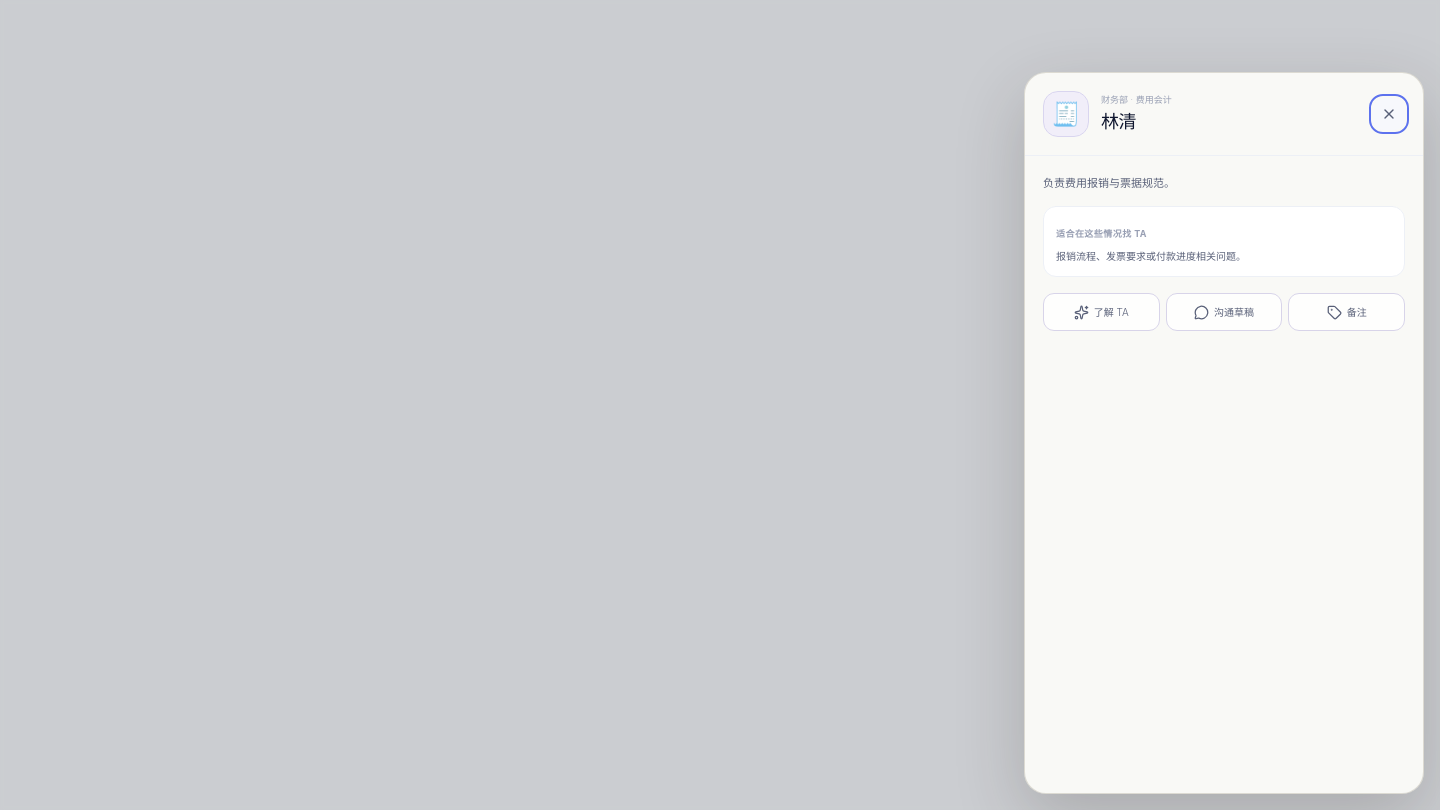
ContactDetailDrawer › opens contextual colleague details and loads intro only on demand
Expected: the dialog "林清" is shown, [1024,72,1424,794]
Expected: the text "报销流程、发票要求或付款进度相关问题。" is shown, [1056,250,1246,262]
Click the button "了解 TA": (1101, 312) [1043,293,1160,331]
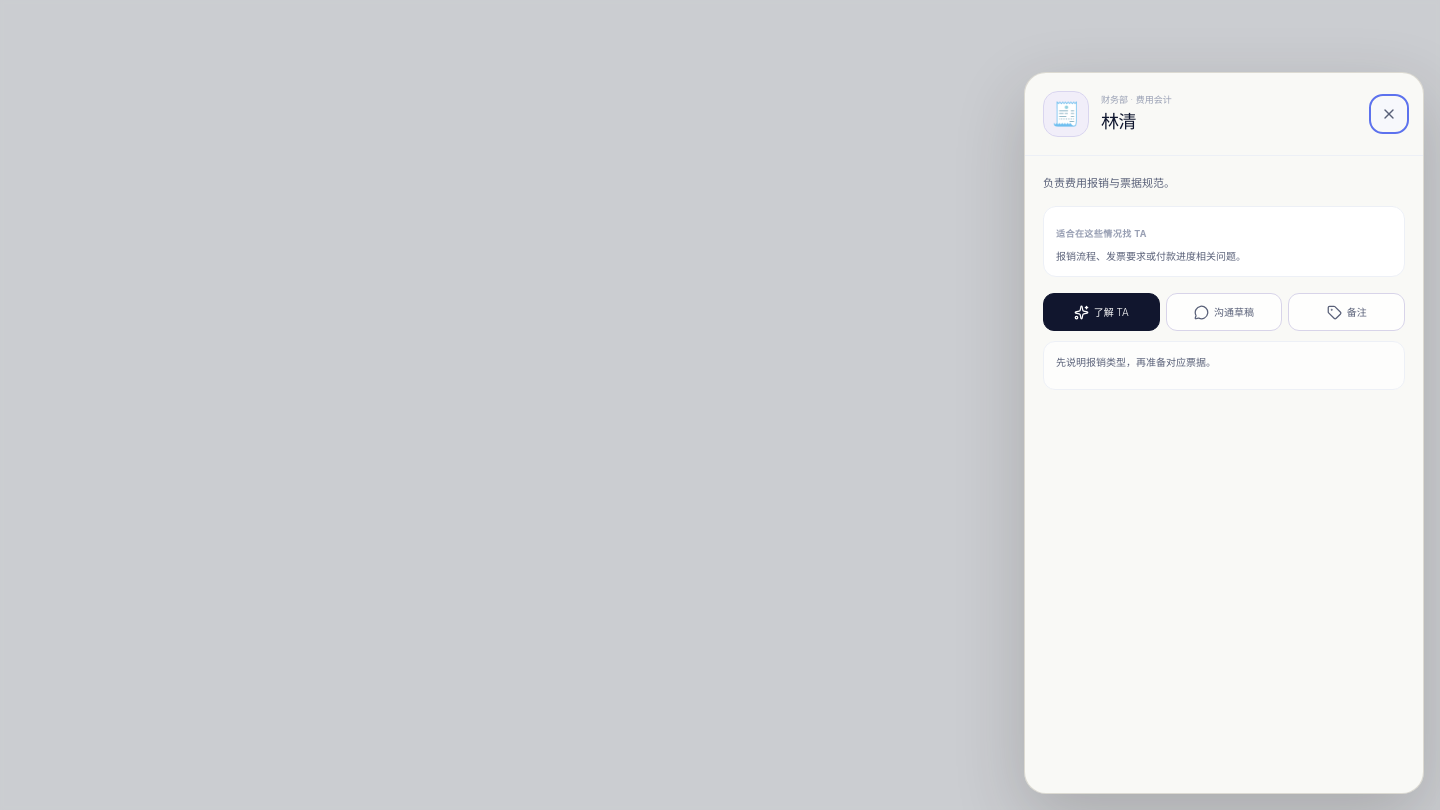
Expected: the text "先说明报销类型，再准备对应票据。" is shown, [1056,356,1216,368]
